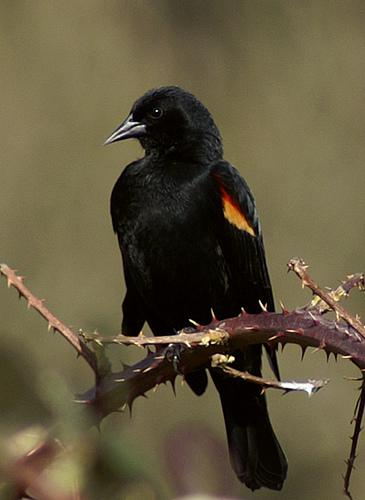010.Red_winged_Blackbird: (102, 85, 293, 491)
